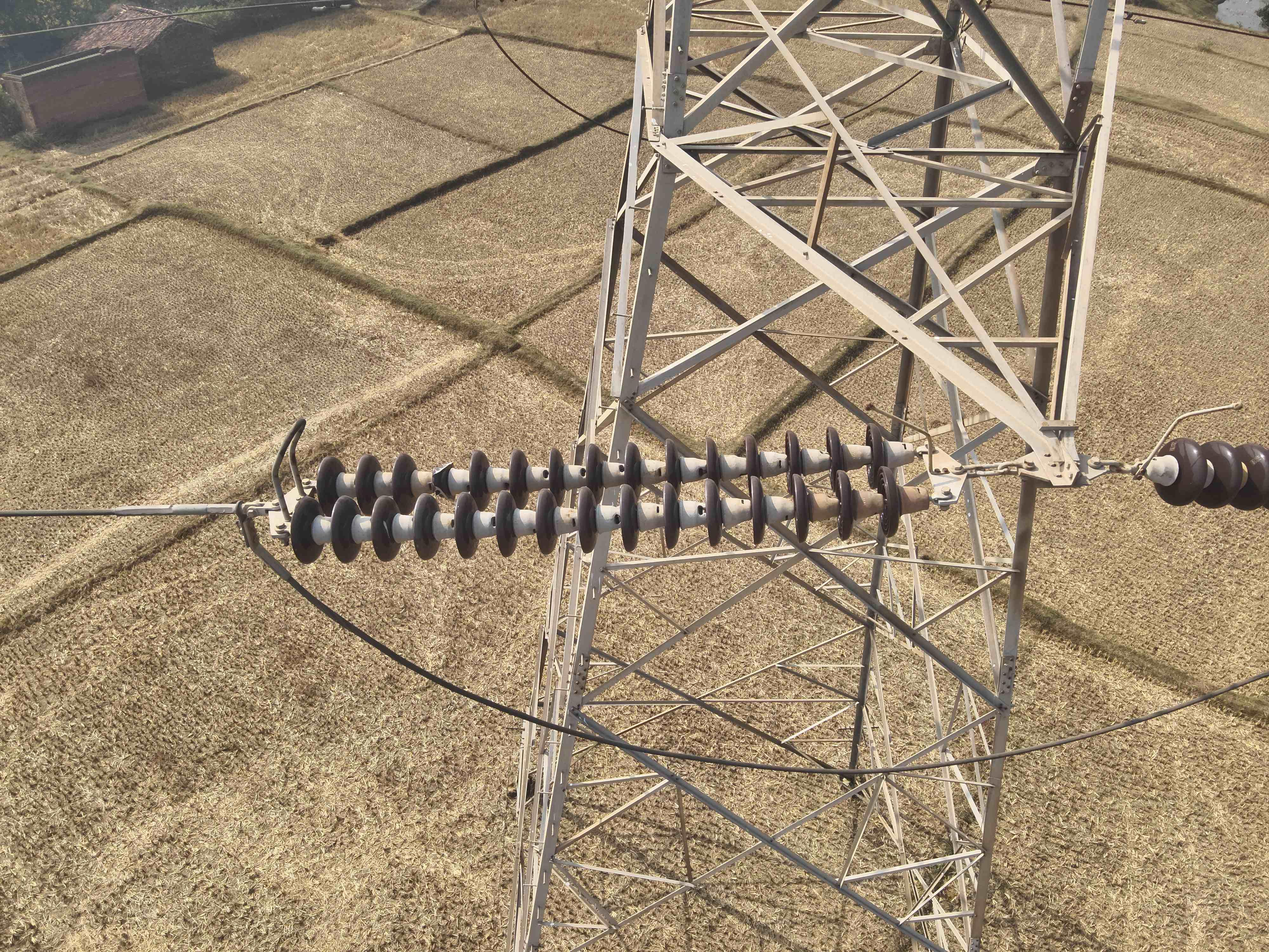broken_insulator: (426, 452, 457, 505)
